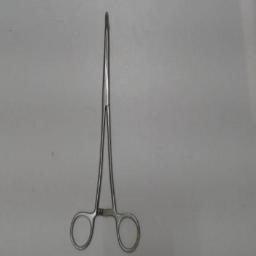Lahey Forceps: (68, 9, 140, 253)
